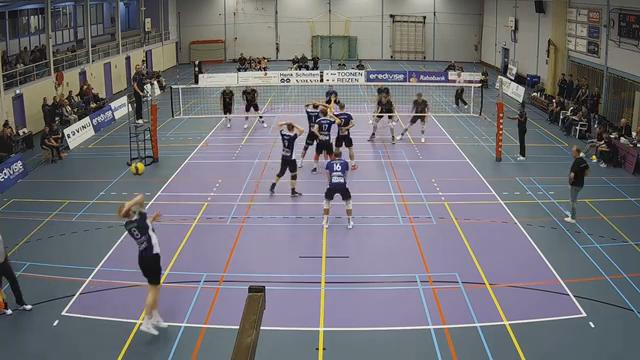battuta: (111, 191, 172, 341)
